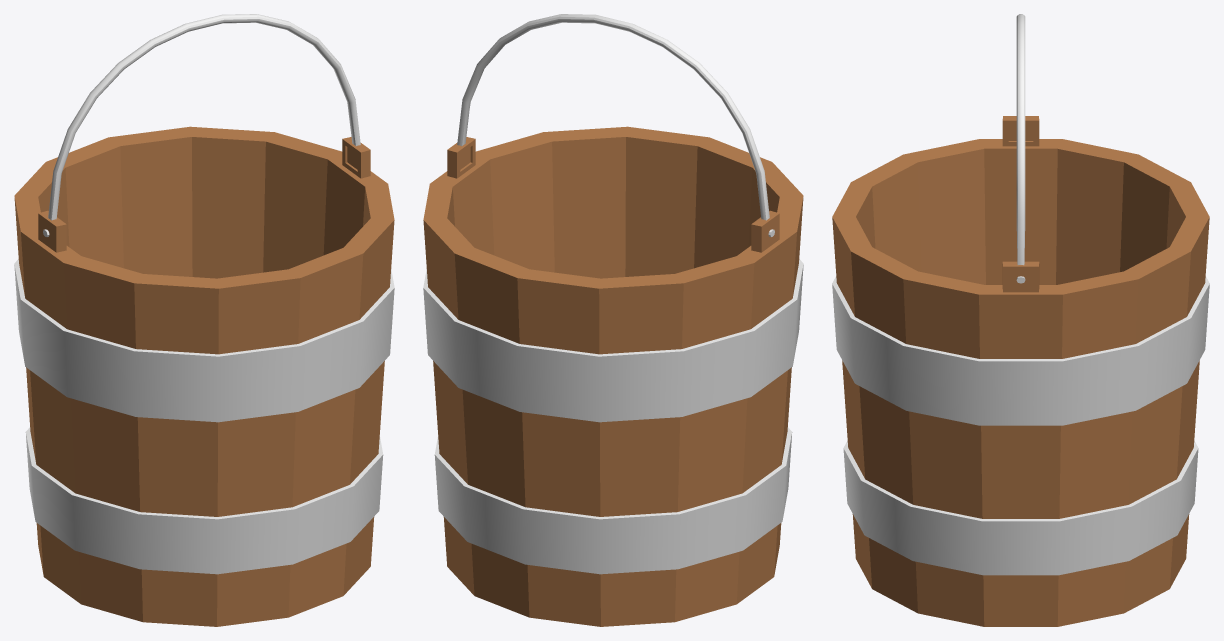
Rendered from bucket.fbx.
3 views of the same model, side by side, from view 1: azimuth 30°, elevation 25°; view 2: azimuth 150°, elevation 25°; view 3: azimuth 270°, elevation 25° (orthographic).
Parts seen in each view (by area): view 1: bucket; view 2: bucket; view 3: bucket.
Part boxes in pixels (x1,y1,x2,y2): bucket: (14,14,394,626); bucket: (423,14,803,626); bucket: (832,14,1209,626).
Bounding box in the file's own units: 195 × 308 × 200.
